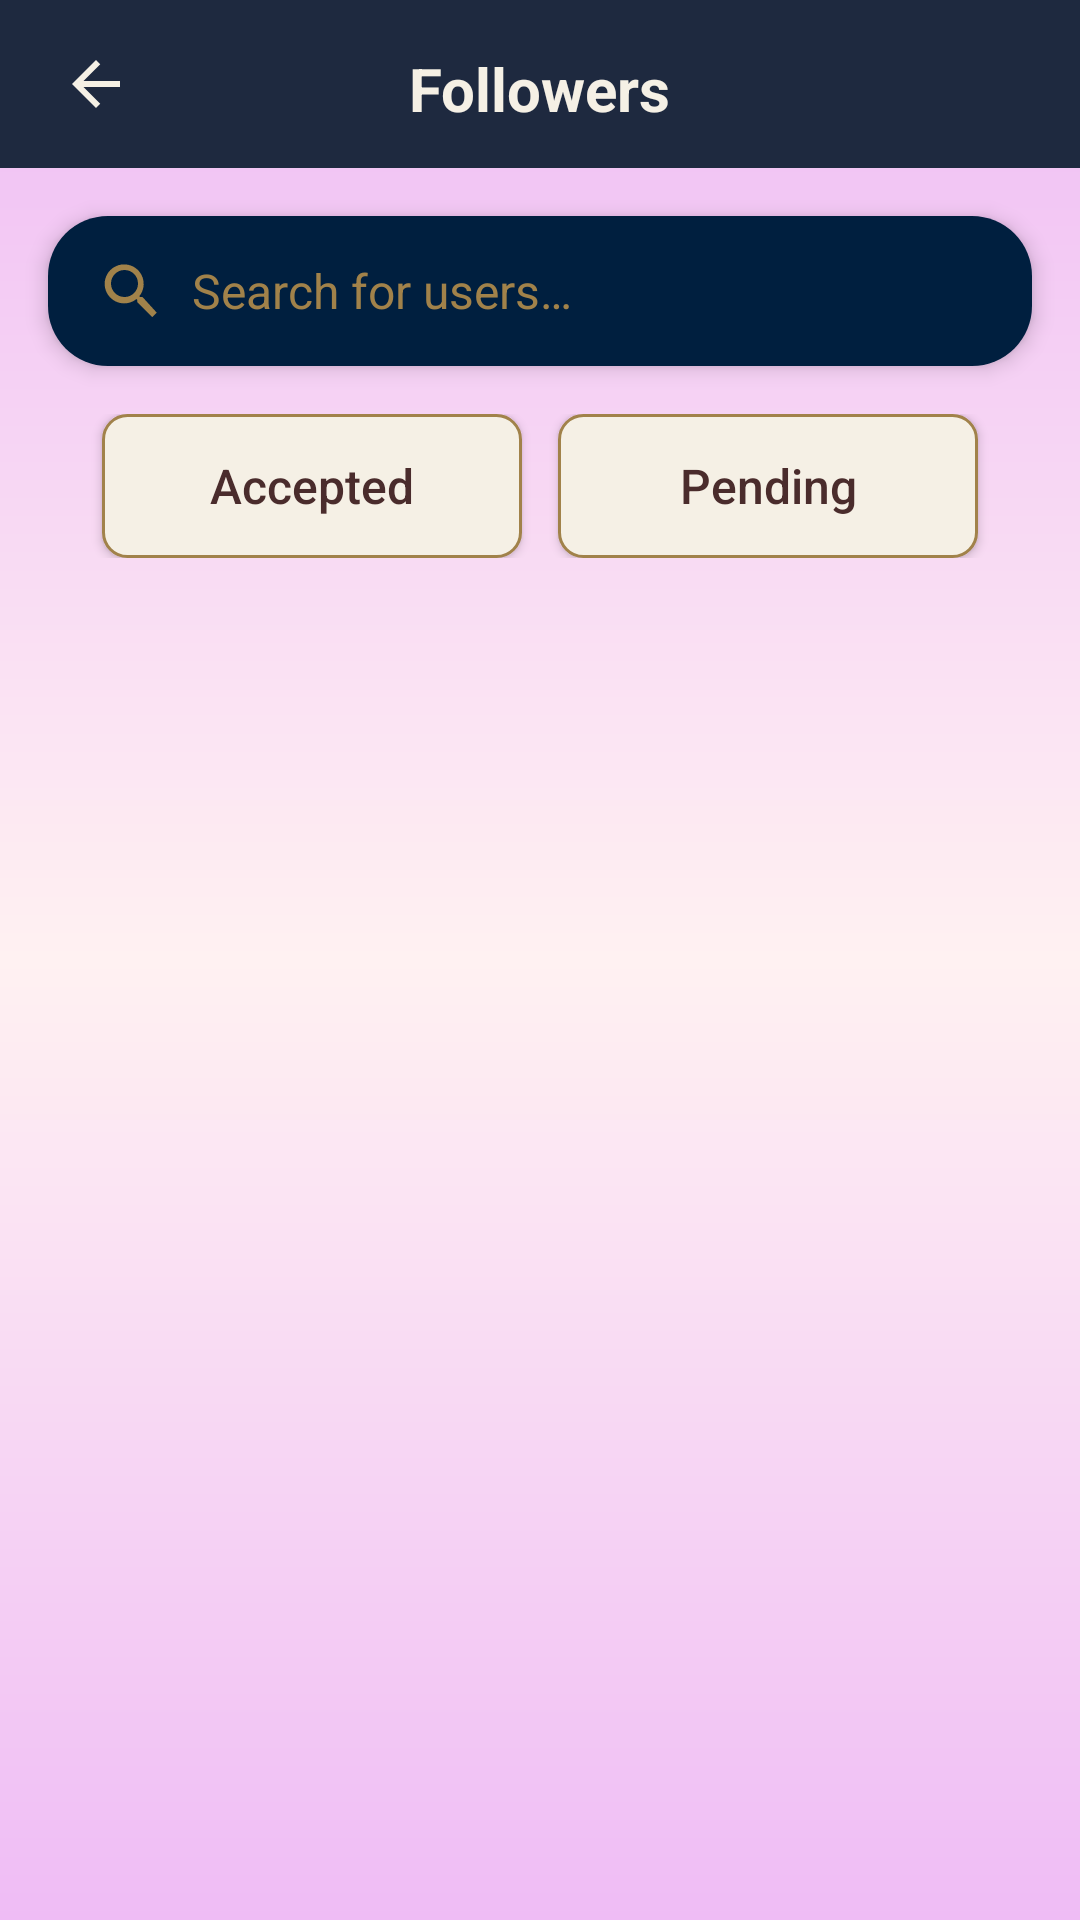

Screen size 1080*1920. Icon name, then its box in pixels as (x1, y1, x2, y2):
arrow back: (72, 60, 120, 108)
